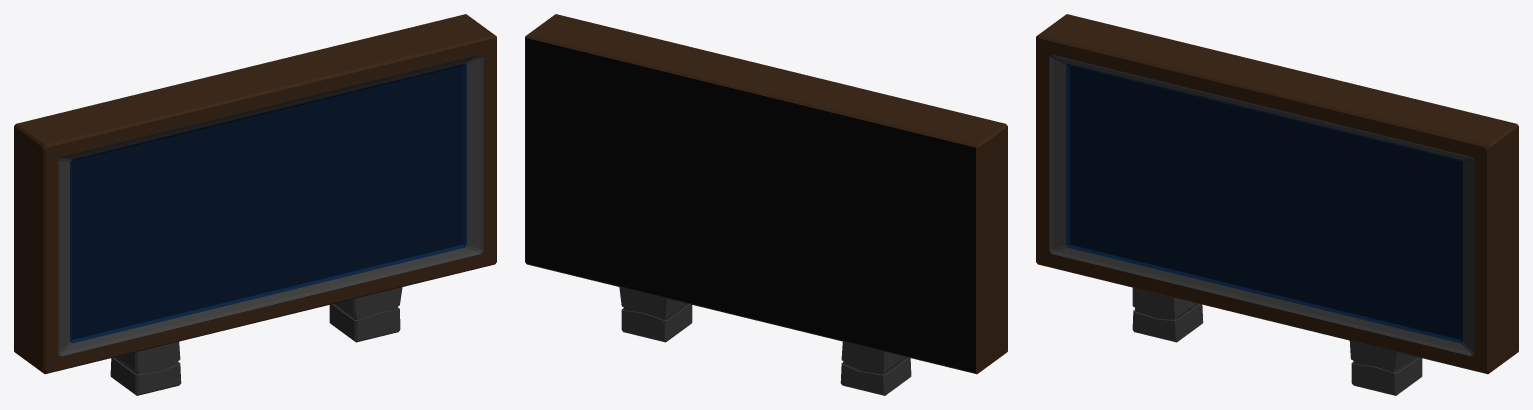
The model's file is panneau_grand.glb.
The picture shows the model from 3 angles, left to right: view 1: azimuth 30°, elevation 25°; view 2: azimuth 150°, elevation 25°; view 3: azimuth 330°, elevation 25°; orthographic projection.
Visible parts, largest first — view 1: Cube; view 2: Cube; view 3: Cube.
Boxes of the visible parts, x1=… form: Cube: x1=14, y1=14, x2=496, y2=395; Cube: x1=525, y1=14, x2=1007, y2=395; Cube: x1=1036, y1=14, x2=1518, y2=395.
Size of the model in its own units: 4.14 by 2.4 by 0.491.
Materials: 1 (1 with a texture image).
